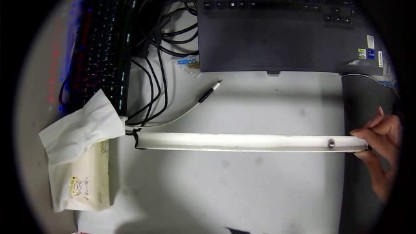gangzhu: (326, 139, 334, 146)
